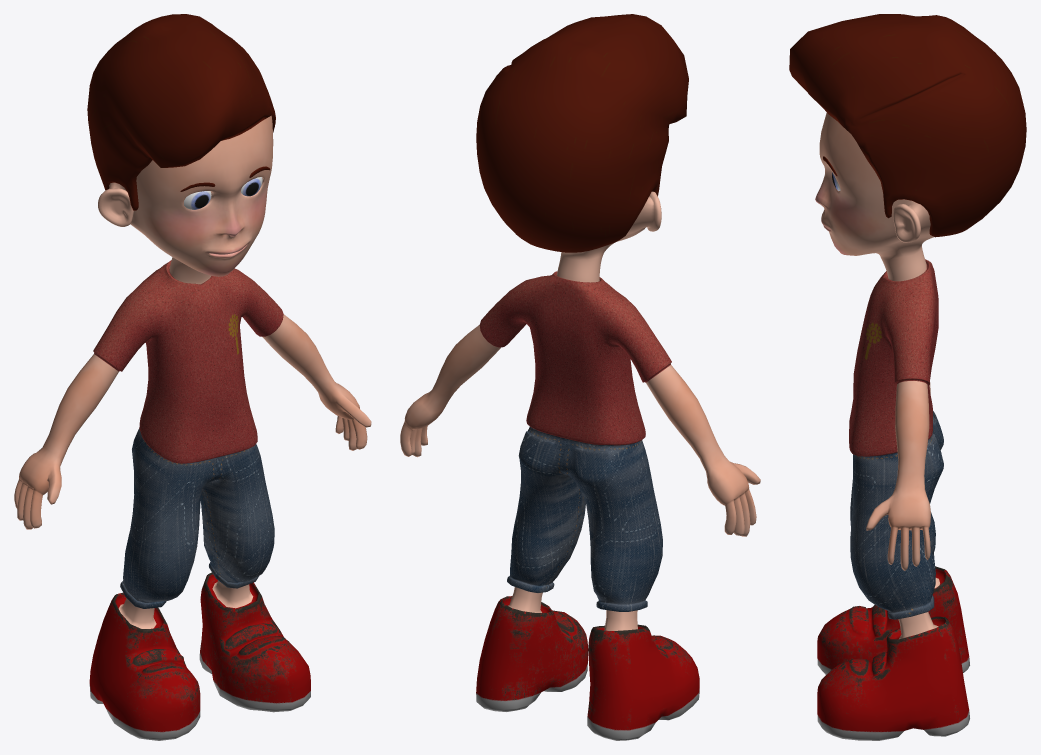
File: niño.obj
3 renders of one model, left to right at view 1: azimuth 30°, elevation 25°; view 2: azimuth 150°, elevation 25°; view 3: azimuth 270°, elevation 25°, orthographic.
Parts seen in each view (by area): view 1: character01; view 2: character01; view 3: character01.
Part boxes in pixels (<box>): character01: <box>14,14,371,740</box>; character01: <box>400,14,760,740</box>; character01: <box>789,14,1026,740</box>.
Bounding box in the file's own units: 174 × 329 × 105.
